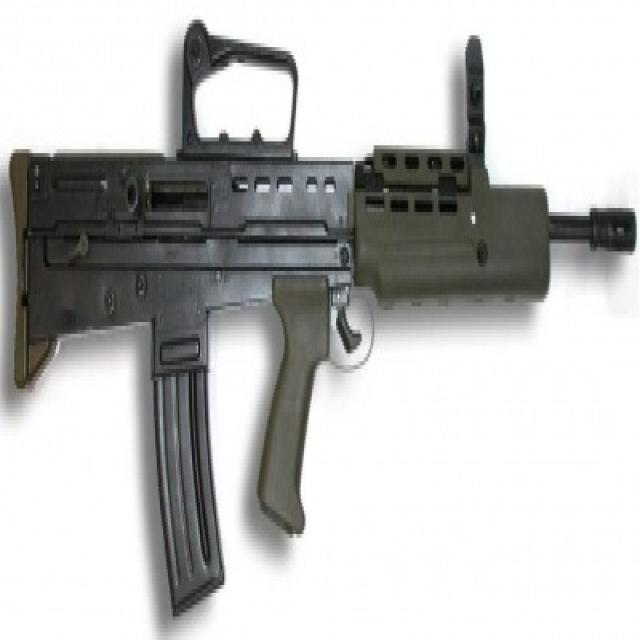rifle: (2, 18, 640, 634)
